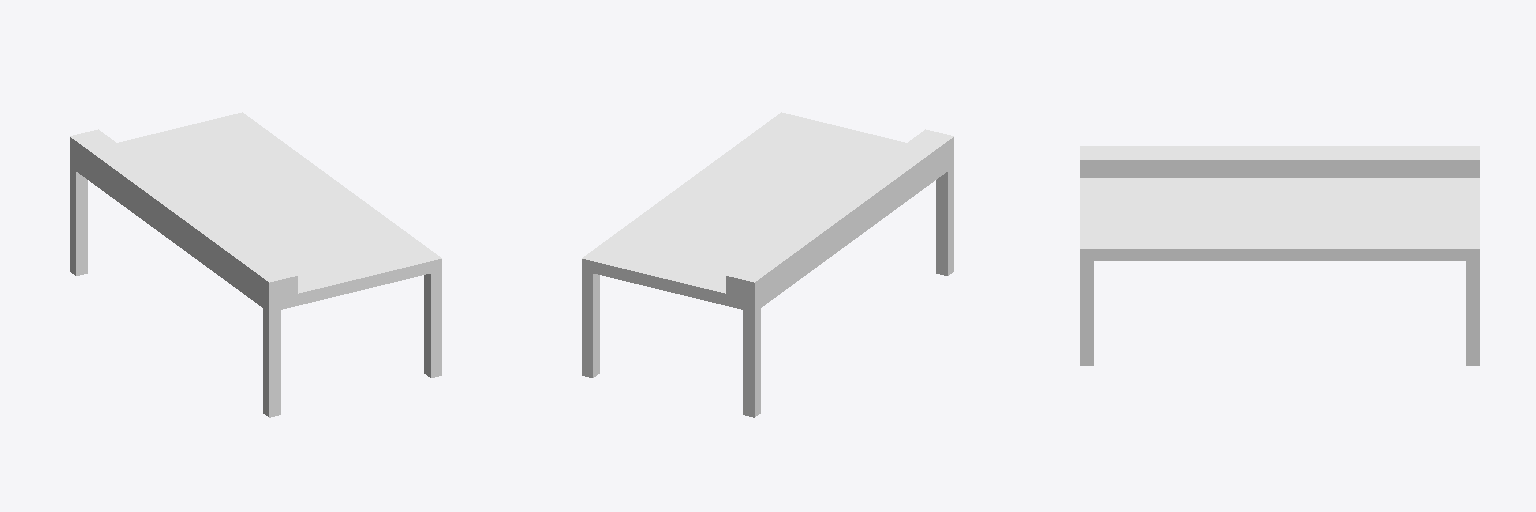
The model's file is WritingDesk.obj.
3 renders of one model, left to right at view 1: azimuth 30°, elevation 25°; view 2: azimuth 150°, elevation 25°; view 3: azimuth 270°, elevation 25°, orthographic.
Parts seen in each view (by area): view 1: WritingDesk; view 2: WritingDesk; view 3: WritingDesk.
Boxes of the visible parts, x1,y1,x2,y2 form: WritingDesk: [70, 112, 441, 417]; WritingDesk: [582, 112, 953, 417]; WritingDesk: [1080, 146, 1479, 365].
Bounding box in the file's own units: 1.5 × 1.12 × 3.